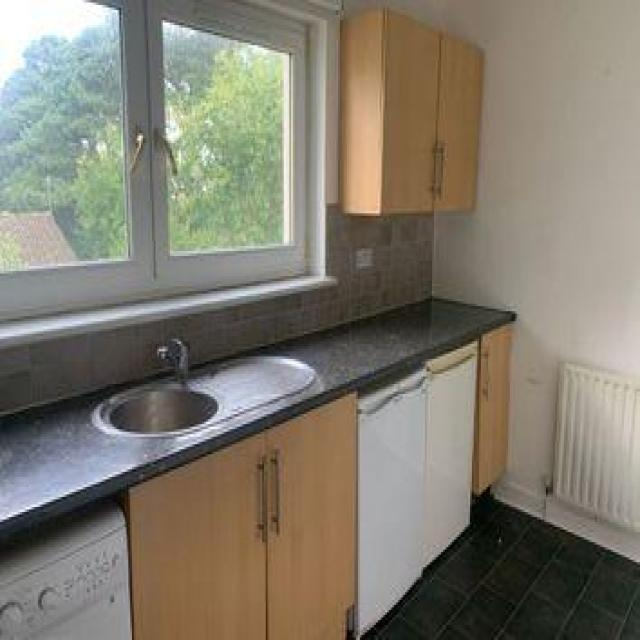Wall: (346, 0, 640, 494), (0, 279, 349, 414), (365, 495, 639, 639), (491, 482, 640, 563), (340, 218, 431, 322), (327, 210, 391, 284)
